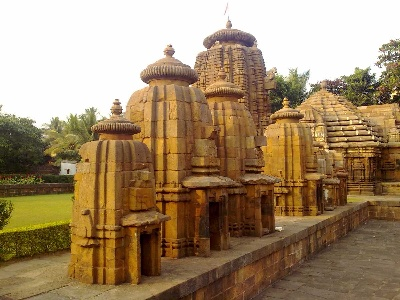amalaka: (134, 59, 202, 83), (82, 118, 148, 141), (204, 28, 265, 50), (200, 77, 249, 103), (266, 103, 308, 126)
gopuram: (117, 80, 216, 203), (65, 136, 160, 251), (187, 44, 273, 79)
